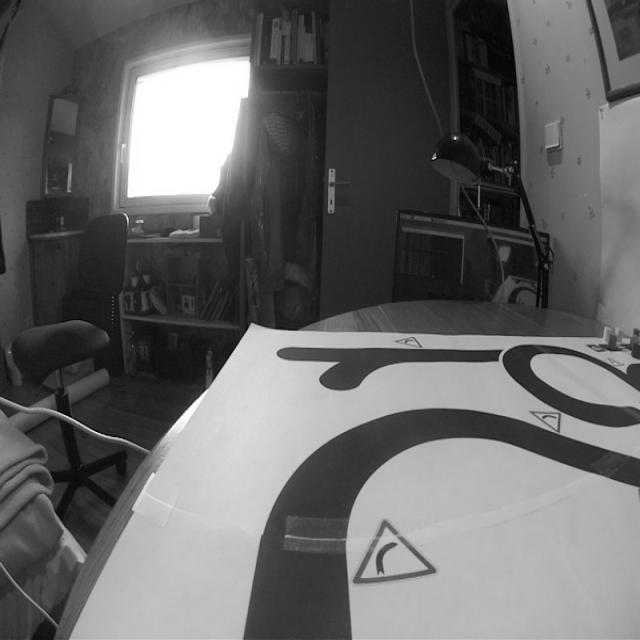laneRightTurn: (232, 426, 380, 640)
rightTurn: (342, 504, 439, 591)
